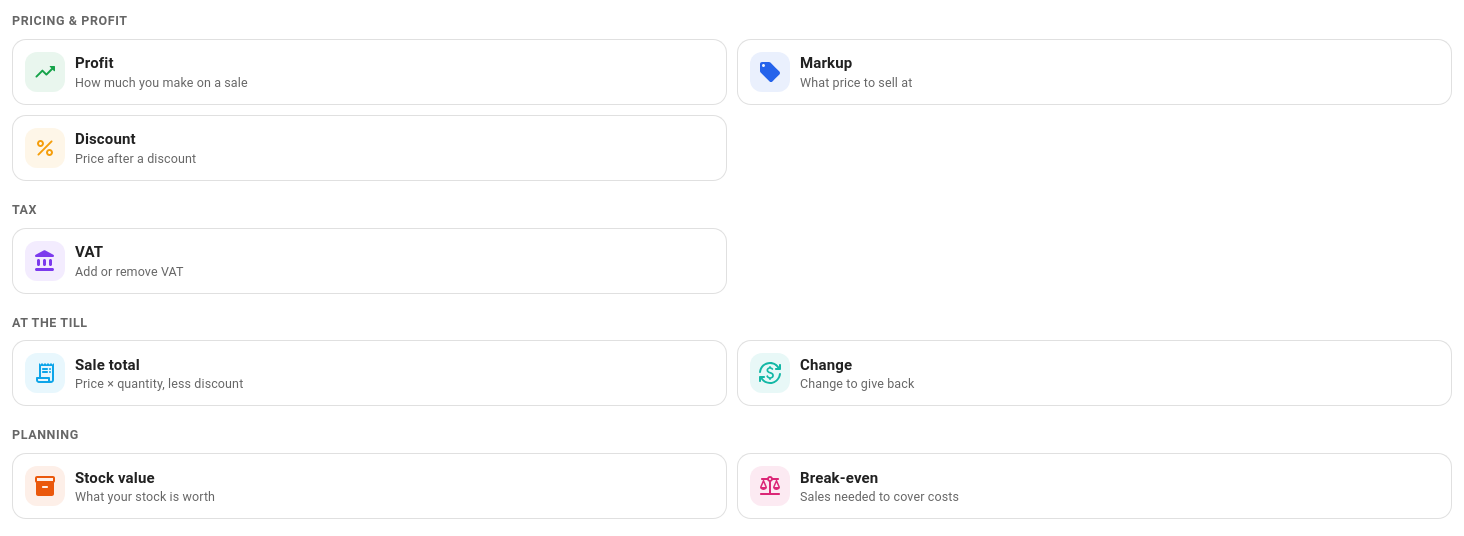
Test: BusinessTools › shows validation only for typed values
Click the text "Change" at x=826, y=365, box [800, 356, 852, 374]
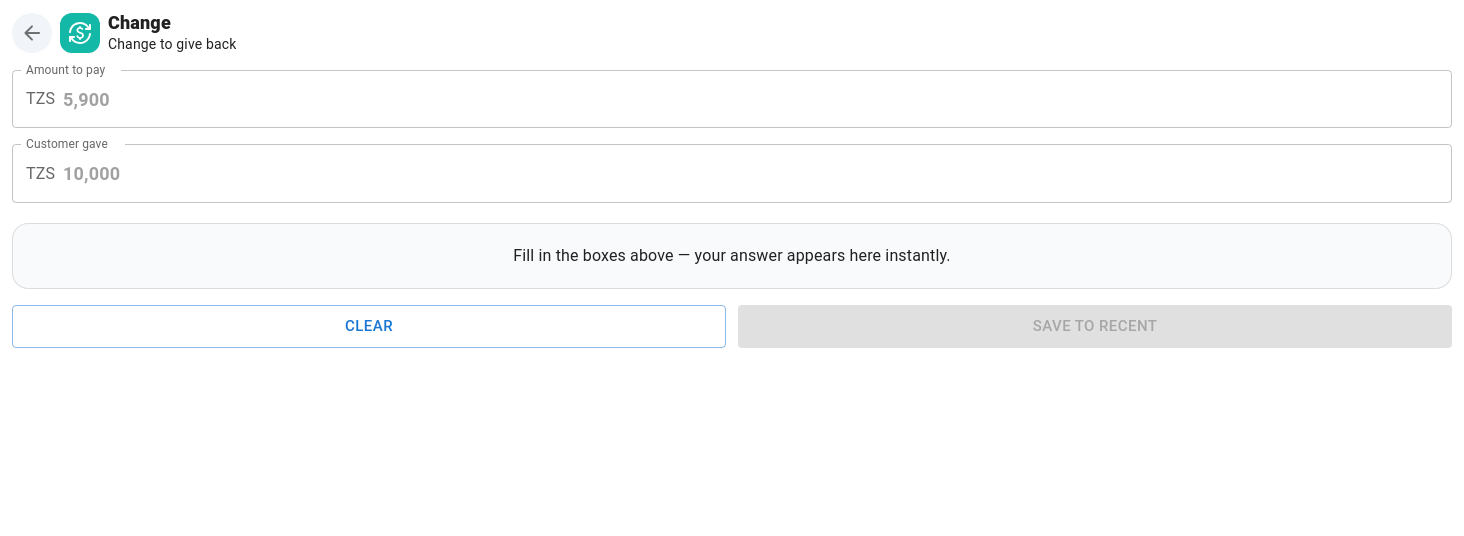
Type "5900" into the field labelled "Amount to pay" at x=758, y=99, box [63, 70, 1452, 128]
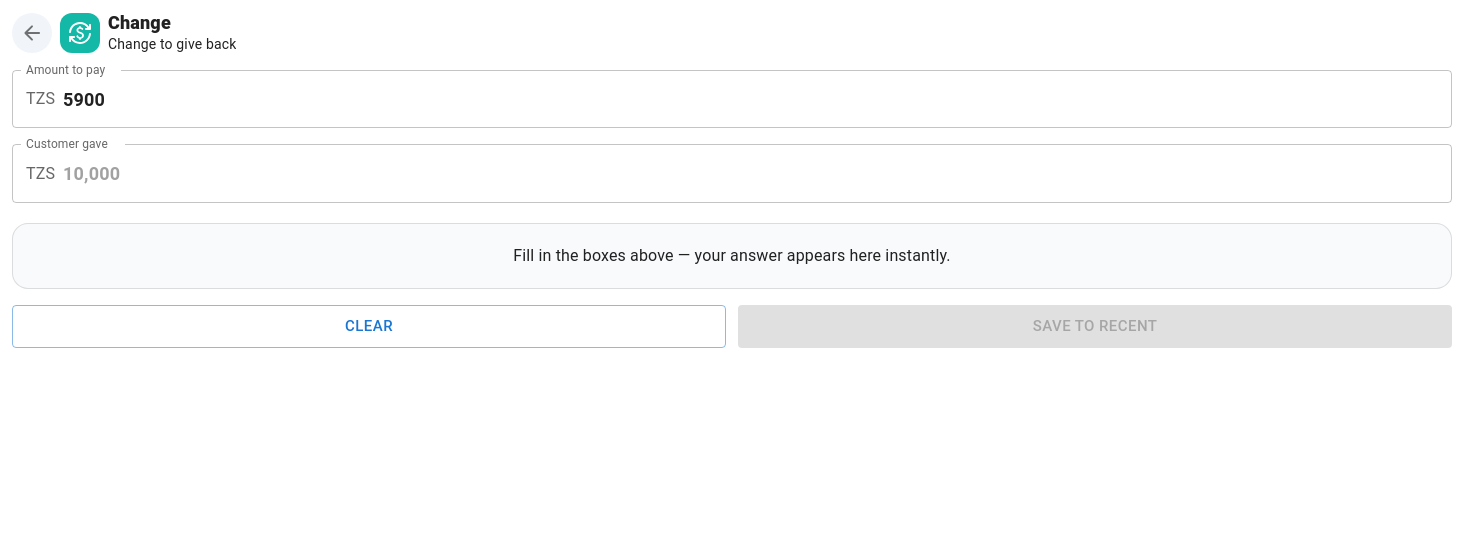
Type "10000" into the field labelled "Customer gave" at x=758, y=174, box [63, 144, 1452, 203]
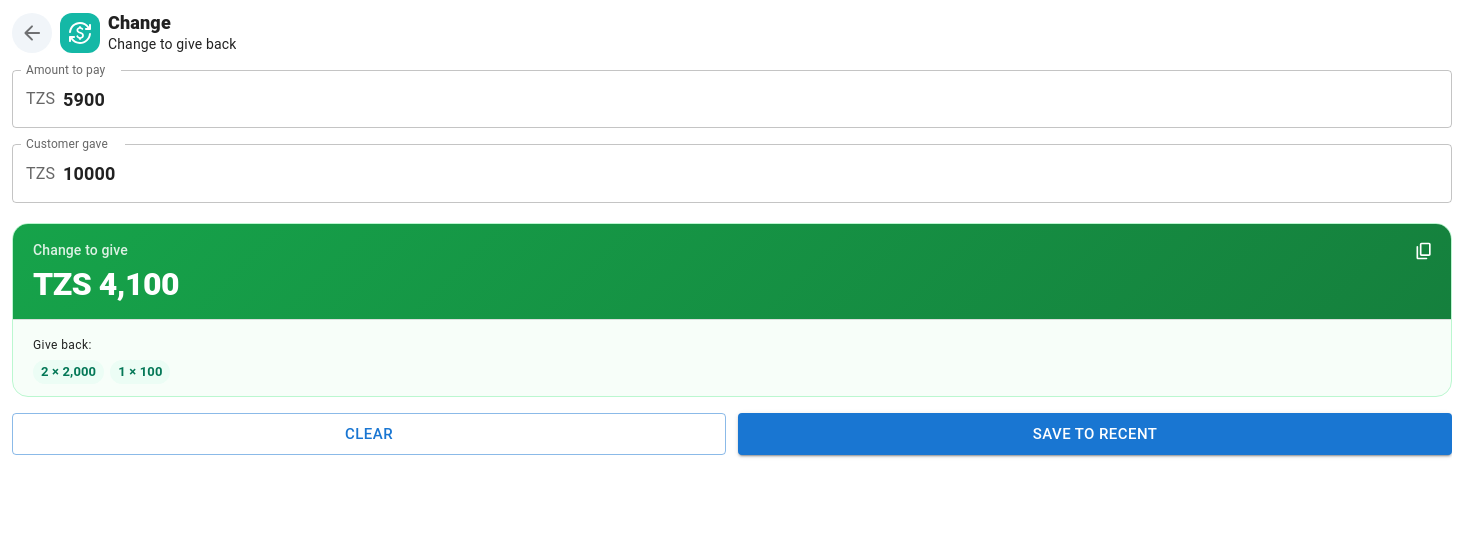
Now the text with test id "tool-primary" shows "4,100", box [33, 265, 179, 303]
Now the text "2 × 2,000" is shown, box [41, 364, 96, 379]
